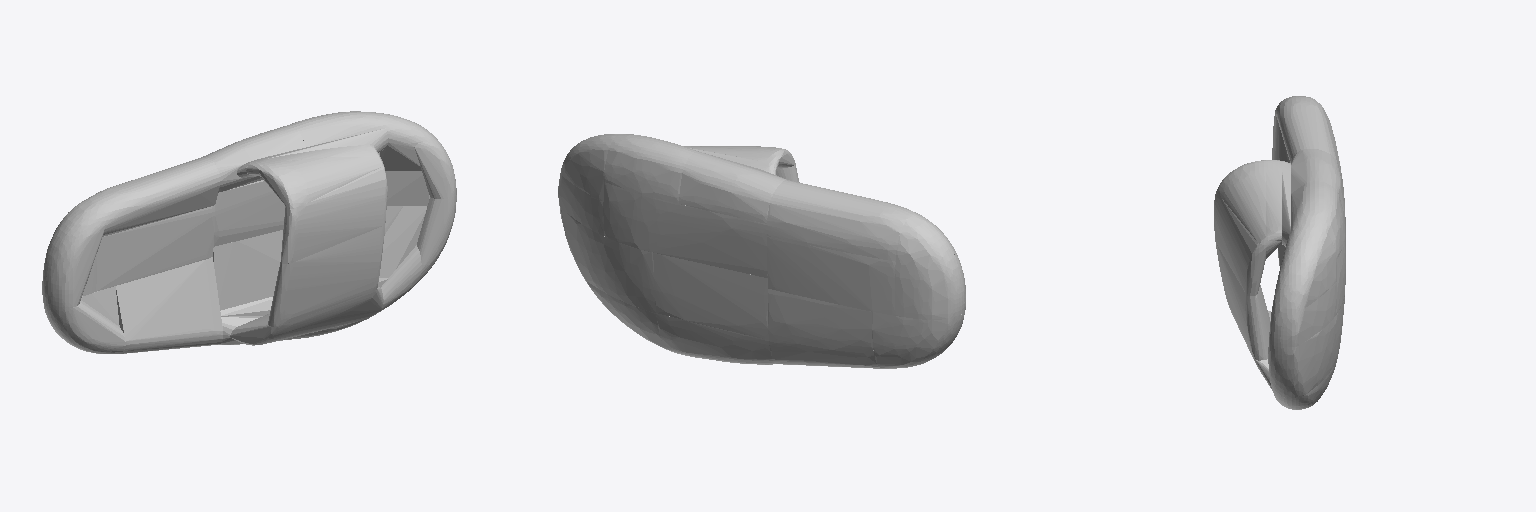
The model's file is coacd_collision.obj.
The picture shows the model from 3 angles: view 1: azimuth 30°, elevation 25°; view 2: azimuth 150°, elevation 25°; view 3: azimuth 270°, elevation 25°; orthographic projection.
Visible parts, largest first — view 1: geometry_0, geometry_10, geometry_6, geometry_15, geometry_5, geometry_16, geometry_13, geometry_17, geometry_2, geometry_8, geometry_29, geometry_1 (+12 smaller); view 2: geometry_17, geometry_5, geometry_16, geometry_0, geometry_6, geometry_3, geometry_29, geometry_22, geometry_26, geometry_4, geometry_23, geometry_9 (+4 smaller); view 3: geometry_9, geometry_15, geometry_5, geometry_13, geometry_10, geometry_26, geometry_22, geometry_11, geometry_29, geometry_25, geometry_21, geometry_14 (+3 smaller).
Part boxes in pixels (bbox=[...]): geometry_0: bbox=[116, 257, 222, 353]; geometry_10: bbox=[268, 225, 384, 326]; geometry_6: bbox=[96, 205, 214, 291]; geometry_15: bbox=[281, 166, 387, 263]; geometry_5: bbox=[86, 157, 219, 236]; geometry_16: bbox=[213, 230, 282, 310]; geometry_13: bbox=[259, 157, 383, 208]; geometry_17: bbox=[214, 152, 379, 246]; geometry_2: bbox=[49, 207, 104, 307]; geometry_8: bbox=[230, 287, 383, 345]; geometry_29: bbox=[203, 125, 305, 192]; geometry_1: bbox=[50, 300, 124, 353]; geometry_17: bbox=[603, 182, 767, 277]; geometry_5: bbox=[767, 180, 917, 261]; geometry_16: bbox=[653, 253, 768, 339]; geometry_0: bbox=[768, 289, 880, 368]; geometry_6: bbox=[767, 236, 895, 315]; geometry_3: bbox=[895, 214, 964, 319]; geometry_29: bbox=[679, 151, 786, 223]; geometry_22: bbox=[561, 208, 655, 312]; geometry_26: bbox=[604, 134, 695, 203]; geometry_4: bbox=[872, 312, 964, 368]; geometry_23: bbox=[656, 313, 774, 364]; geometry_9: bbox=[561, 134, 618, 201]; geometry_9: bbox=[1282, 224, 1336, 310]; geometry_15: bbox=[1214, 191, 1265, 295]; geometry_5: bbox=[1276, 97, 1341, 173]; geometry_13: bbox=[1217, 160, 1265, 244]; geometry_10: bbox=[1215, 241, 1270, 360]; geometry_26: bbox=[1291, 181, 1345, 258]; geometry_22: bbox=[1300, 297, 1344, 396]; geometry_11: bbox=[1282, 282, 1336, 346]; geometry_29: bbox=[1291, 149, 1344, 213]; geometry_25: bbox=[1266, 160, 1281, 240]; geometry_21: bbox=[1282, 345, 1299, 397]; geometry_14: bbox=[1268, 332, 1281, 402].
Size of the model in its own units: 215 by 106 by 61.13.